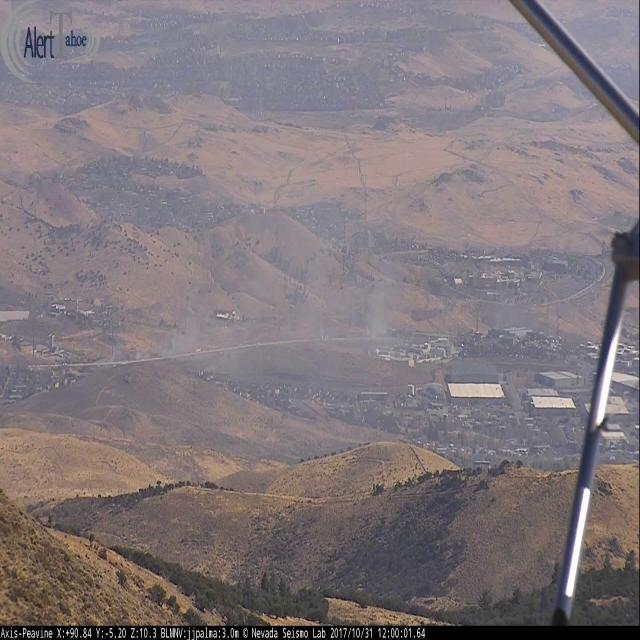smoke: (92, 176, 404, 370)
